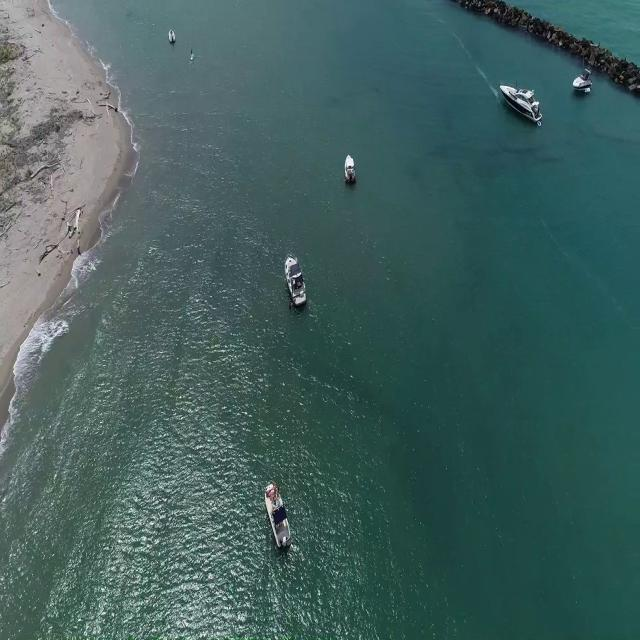boat: (500, 84, 546, 129), (267, 482, 290, 551), (286, 250, 309, 308), (573, 69, 597, 95), (345, 150, 360, 186), (170, 26, 179, 43)
person: (190, 43, 197, 55)
surfboard: (192, 53, 198, 65)
wood: (43, 208, 85, 254)
